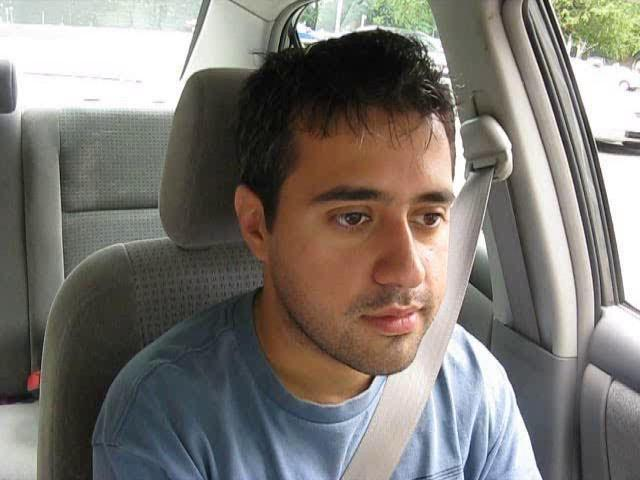eye_open: (323, 204, 377, 236), (411, 205, 452, 235)
face: (290, 156, 477, 376)
